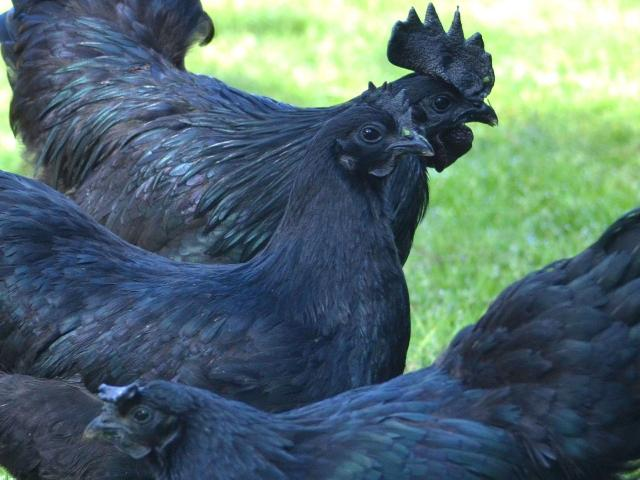Chicken: (83, 206, 640, 480), (0, 78, 435, 414), (0, 2, 501, 269)
